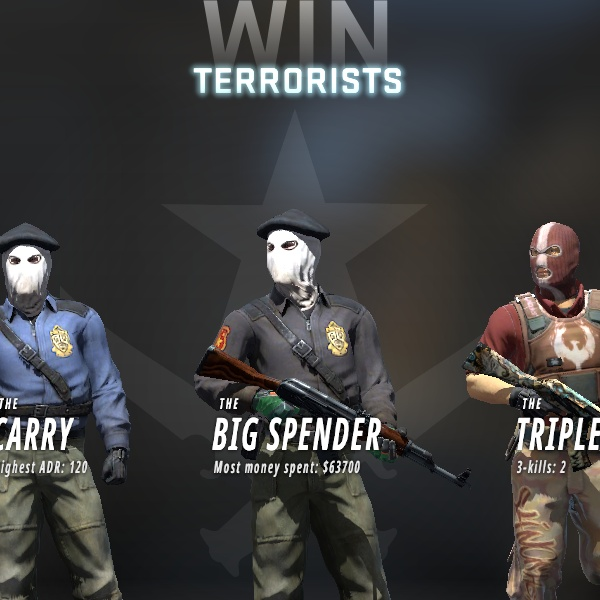t_body: (429, 199, 597, 600)
t_head: (503, 208, 600, 320)
